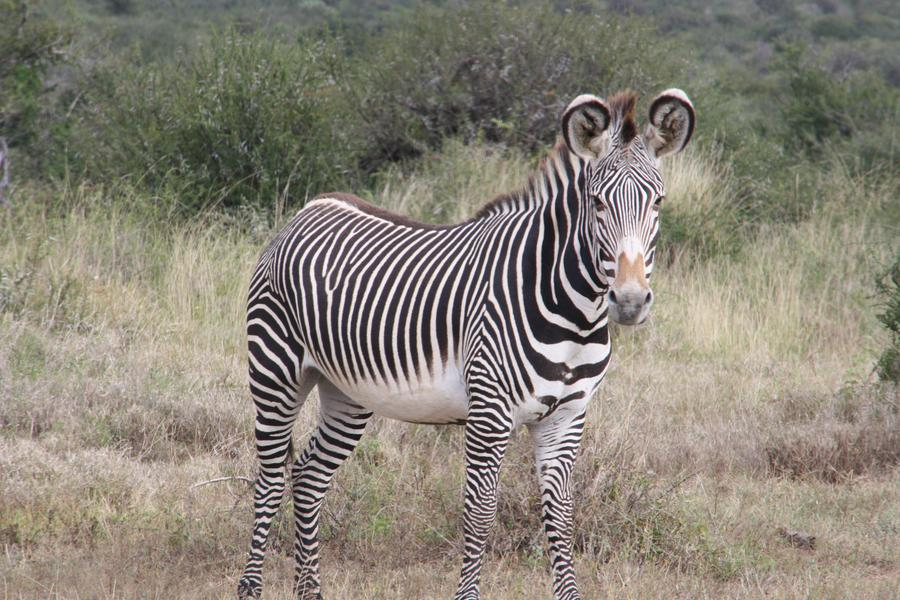zebra_grevys: (241, 168, 547, 405)
